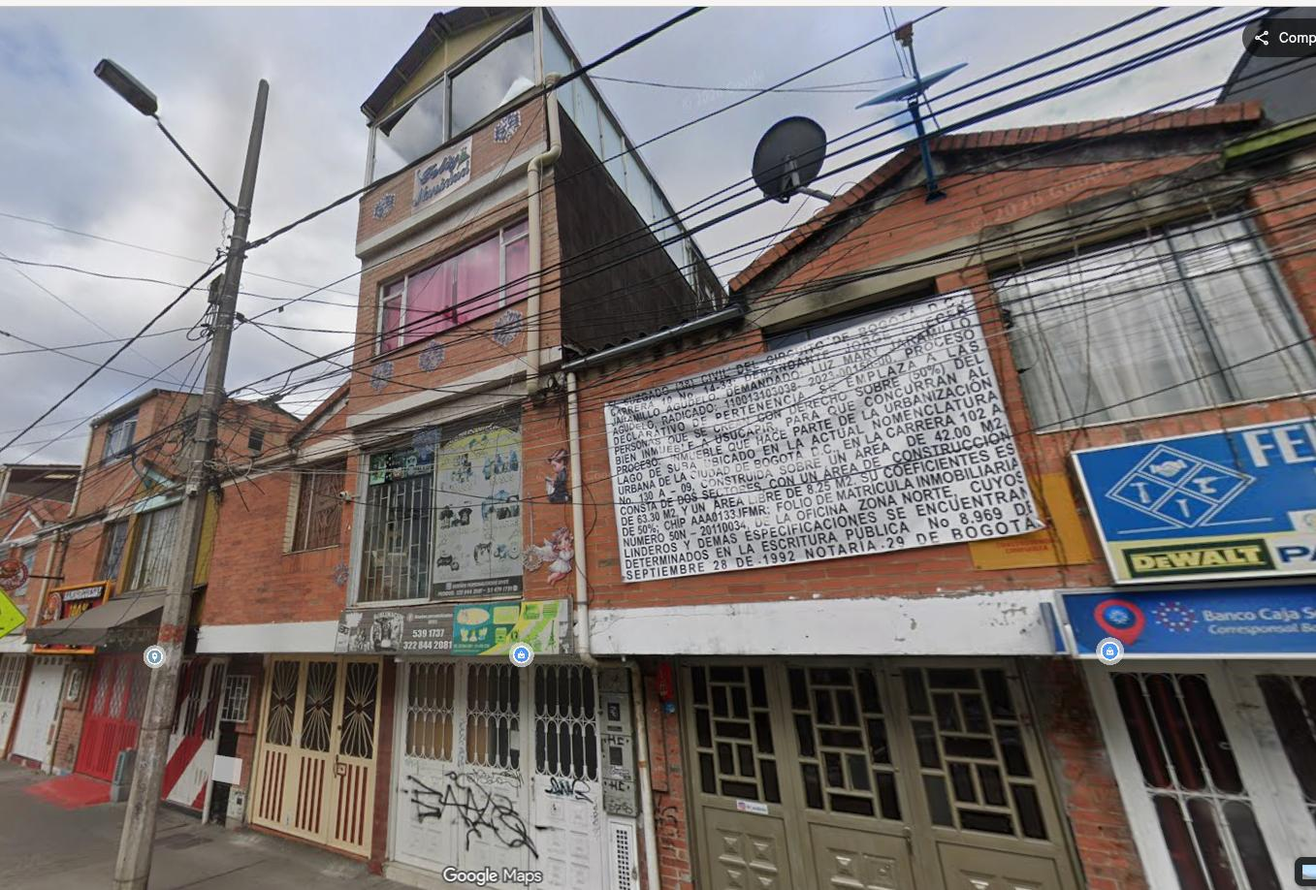casa: (737, 101, 1315, 889), (344, 8, 725, 889), (581, 506, 1145, 889), (581, 148, 1073, 496), (253, 659, 378, 853), (147, 594, 186, 707)
poste: (96, 59, 268, 889)
